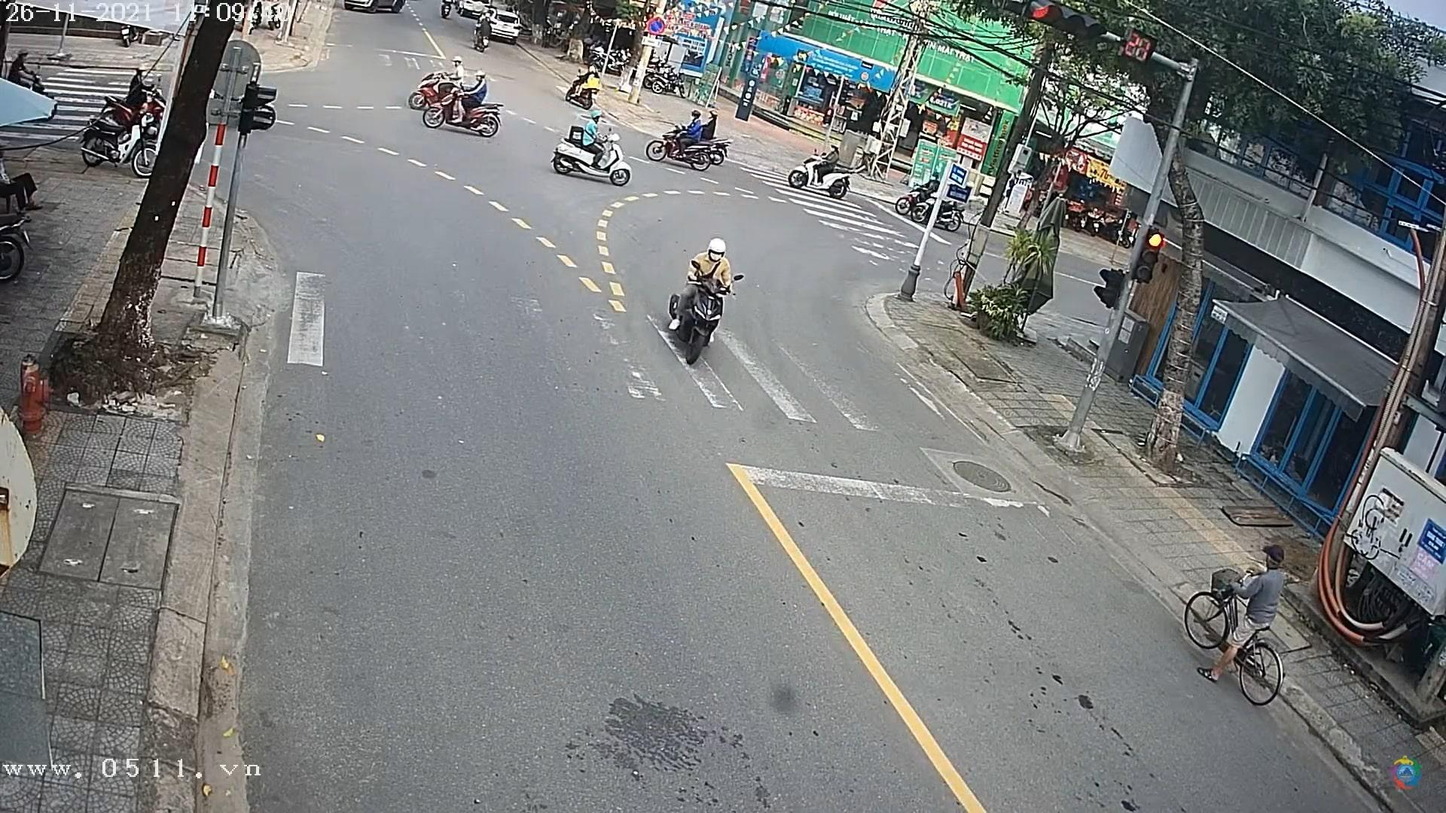car: (341, 0, 409, 12)
motorbike: (660, 256, 730, 366)
